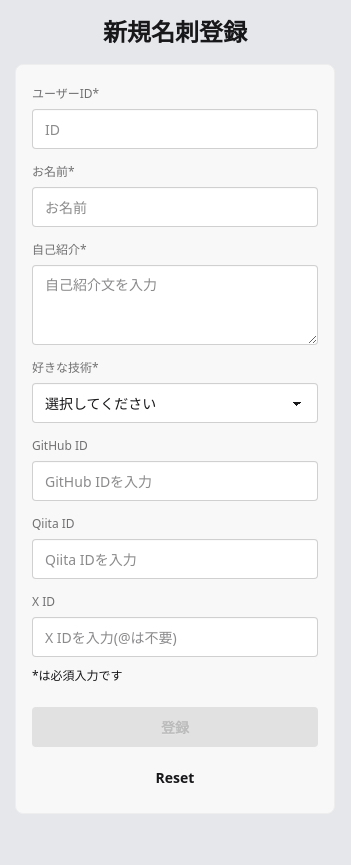
Scenario: 新規登録ページ › githubIdに日本語を入力するとエラーが表示される
Type "あいうえお" into the field with placeholder "GitHub IDを入力".
click(175, 481); type("あいうえお")  # box x1=32 y1=461 x2=318 y2=501
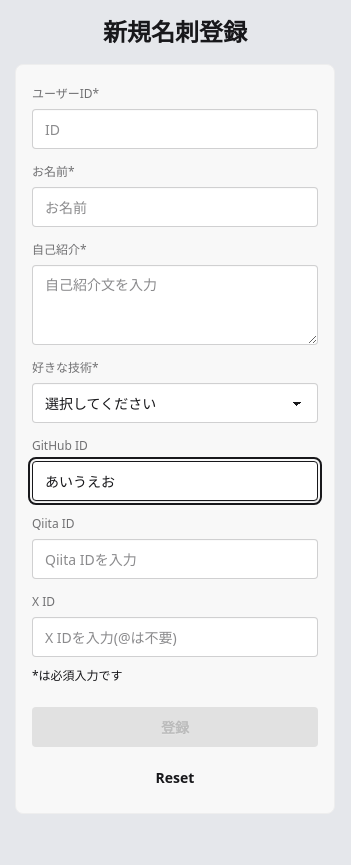
Press Tab
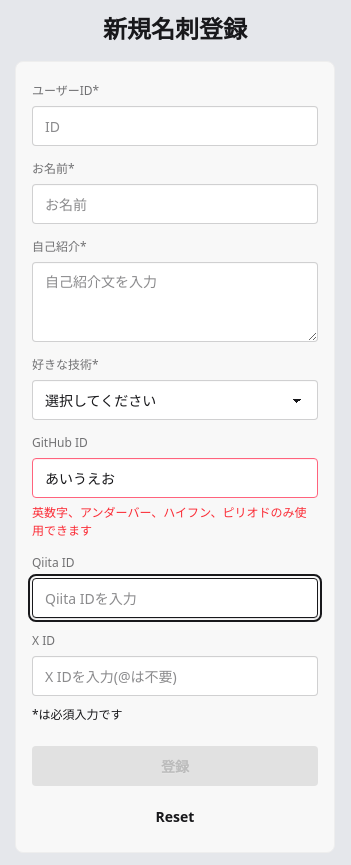
Now the text "英数字、アンダーバー、ハイフン、ピリオドのみ使用できます" is shown, box x1=32 y1=504 x2=318 y2=540
